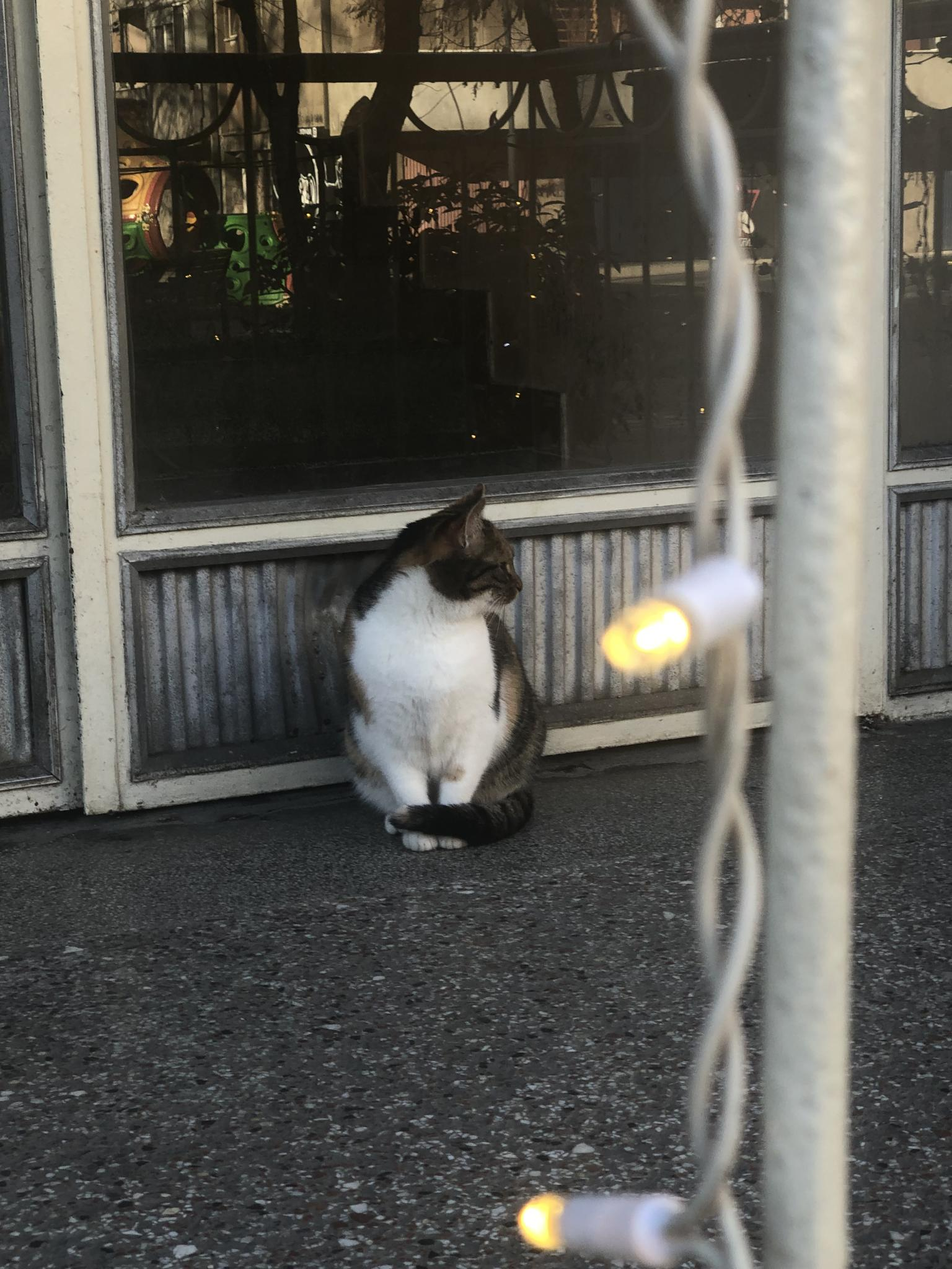macka: (336, 478, 549, 850)
